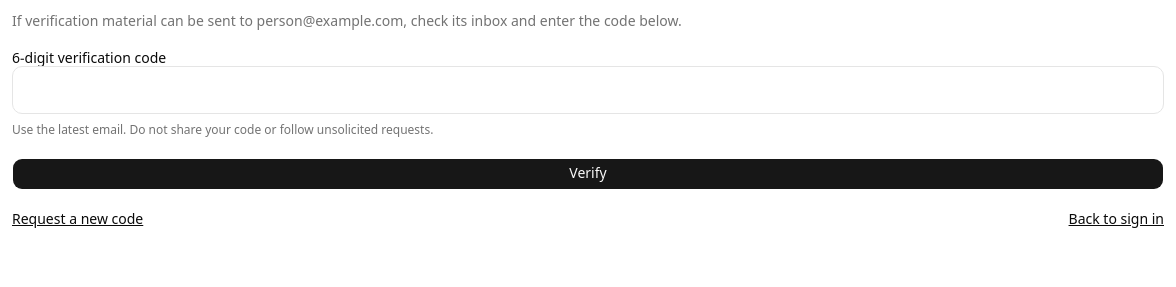
OTP and secure-link verification › requires six ASCII digits and handles server-invalid code without guessing LINK_ONLY
Type "01234" into the field labelled "6-digit verification code" at (588, 90), box left=12, top=66, right=1164, bottom=114
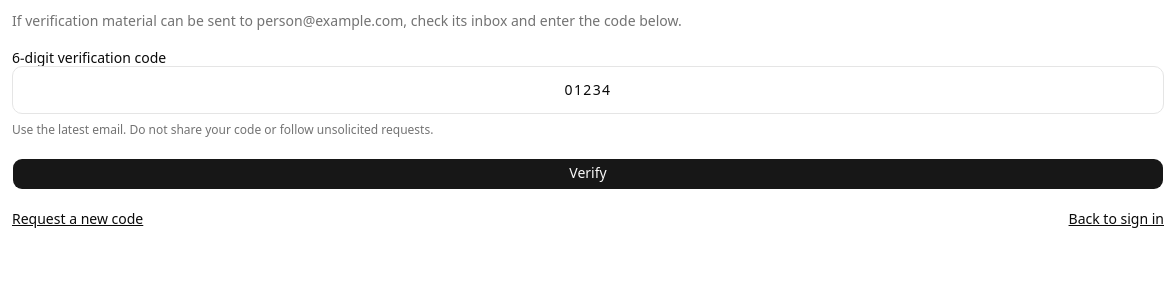
Submit the form named "Verify"
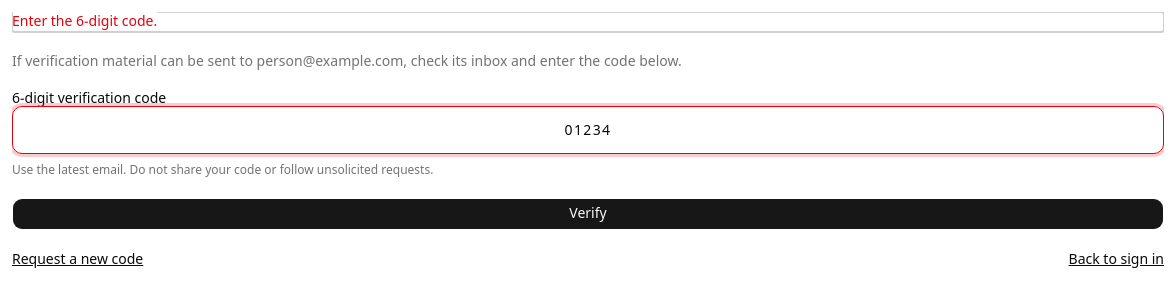
Replace the text in the field labelled "6-digit verification code" with "012345" at (588, 130), box left=12, top=106, right=1164, bottom=154
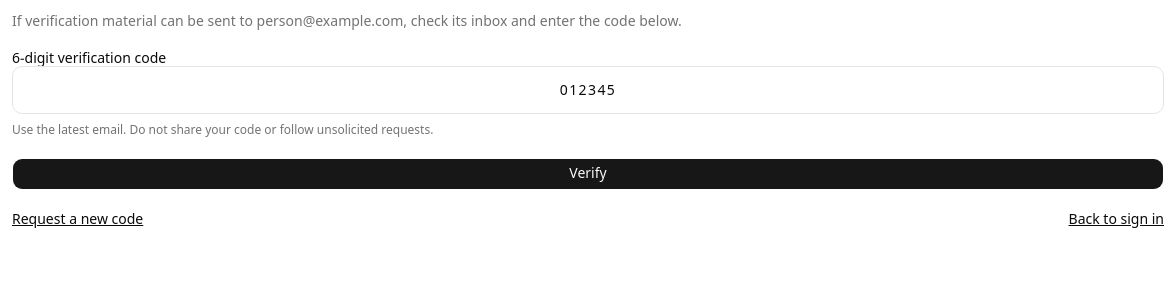
Submit the form named "Verify"
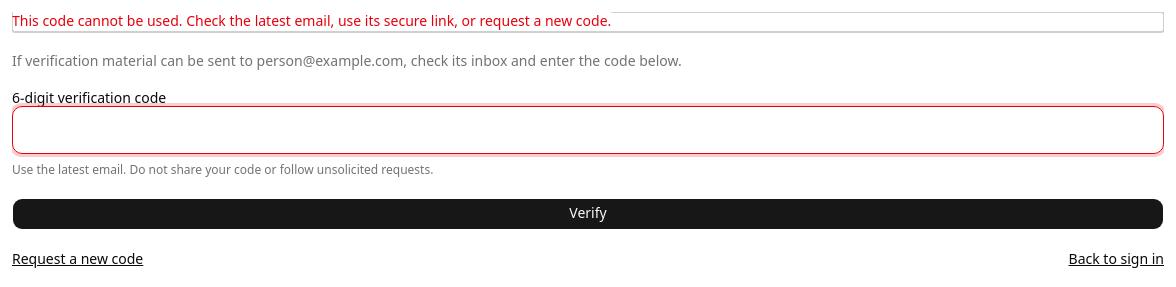
Expected: the button "Request a new code" is shown, left=12, top=250, right=143, bottom=270
Expected: the message shows "secure link", left=12, top=11, right=611, bottom=32
